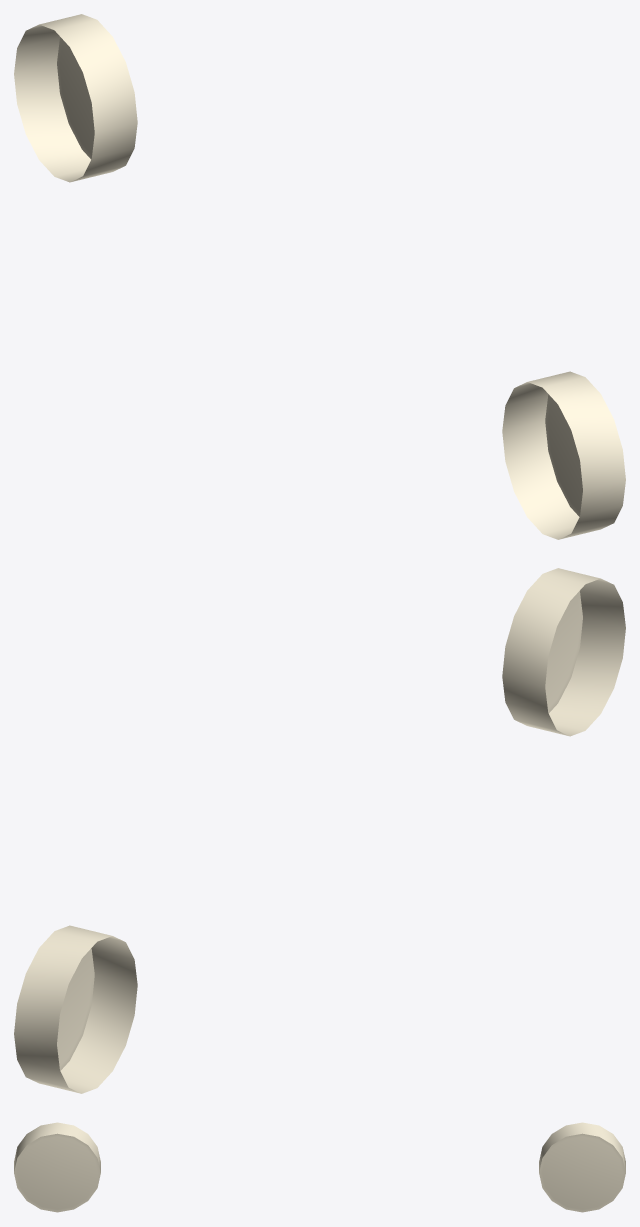
Rendered from gaz52_lights.obj.
3 renders of one model, top to bottom at view 1: azimuth 30°, elevation 25°; view 2: azimuth 150°, elevation 25°; view 3: azimuth 270°, elevation 25°, orthographic. The views are drawn at different scales.
Parts seen in each view (by area): view 1: gaz52_Headlight; view 2: gaz52_Headlight; view 3: gaz52_Headlight.
Part boxes in pixels (<box>): gaz52_Headlight: <box>14,14,625,539</box>; gaz52_Headlight: <box>14,568,625,1093</box>; gaz52_Headlight: <box>14,1122,625,1212</box>.
Size of the model in its own units: 0.0933 by 0.2705 by 1.9.
Materials: 1 (1 with a texture image).
